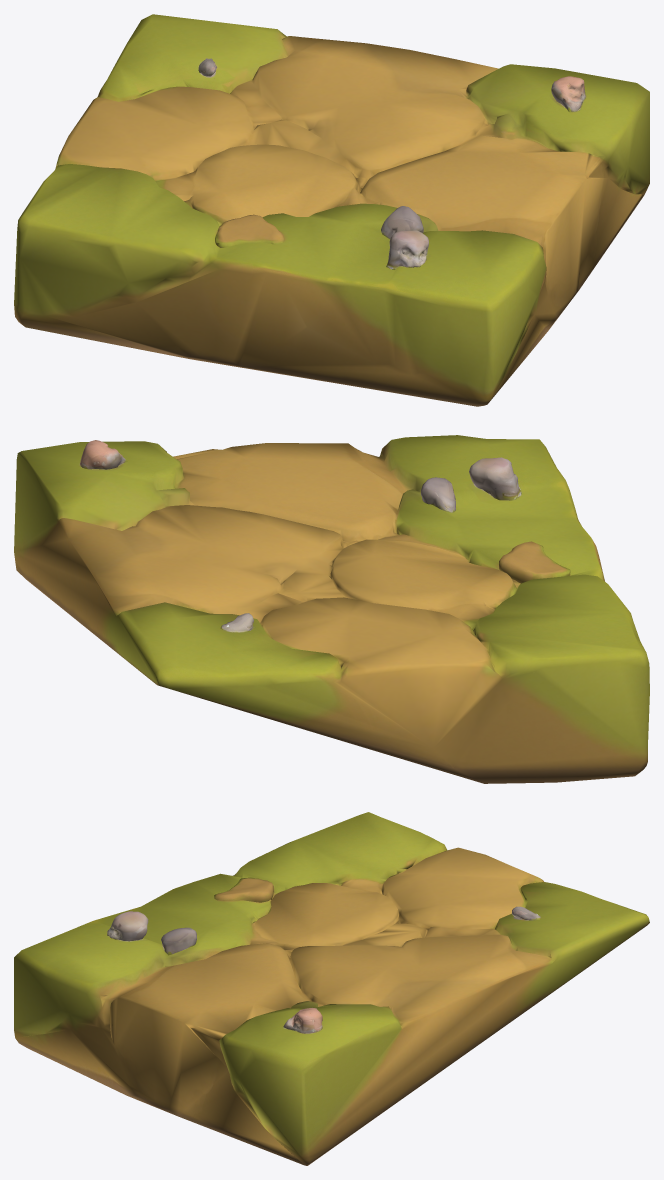
The model's file is stone_path_fork.fbx.
3 views of the same model, one above another, from view 1: azimuth 30°, elevation 25°; view 2: azimuth 150°, elevation 25°; view 3: azimuth 270°, elevation 25° (orthographic). The views are drawn at different scales.
Parts seen in each view (by area): view 1: tripo_node_979114dd; view 2: tripo_node_979114dd; view 3: tripo_node_979114dd.
Boxes of the visible parts, left/top/right/bottom form: tripo_node_979114dd: left=14, top=14, right=649, bottom=406; tripo_node_979114dd: left=14, top=435, right=649, bottom=783; tripo_node_979114dd: left=14, top=812, right=649, bottom=1165.
Bounding box in the file's own units: 0.998 × 0.252 × 0.998.
